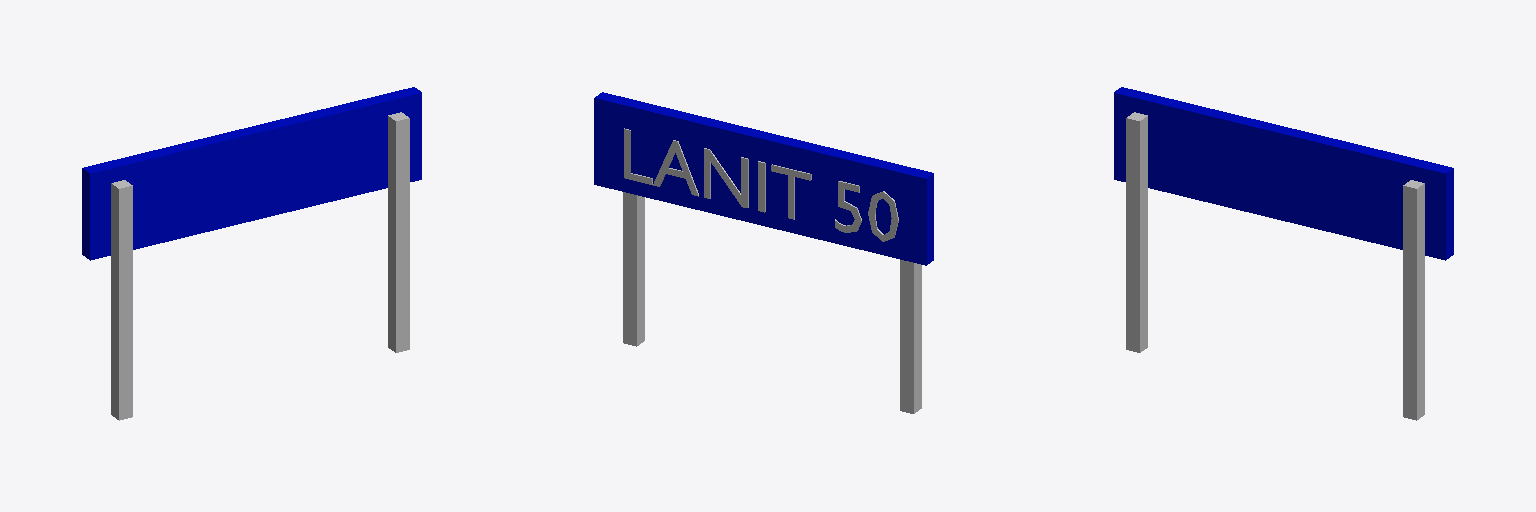
Rendered from salainen_kylttitiedosto_01.obj.
3 views of the same model, side by side, from view 1: azimuth 30°, elevation 25°; view 2: azimuth 150°, elevation 25°; view 3: azimuth 330°, elevation 25° (orthographic).
Visible parts, largest first — view 1: Cube.001; view 2: Cube.001; view 3: Cube.001.
Boxes of the visible parts, <box> form: Cube.001: <box>82,87,421,420</box>; Cube.001: <box>594,92,933,413</box>; Cube.001: <box>1114,87,1453,420</box>.
Size of the model in its own units: 1.34 by 0.952 by 0.1176.